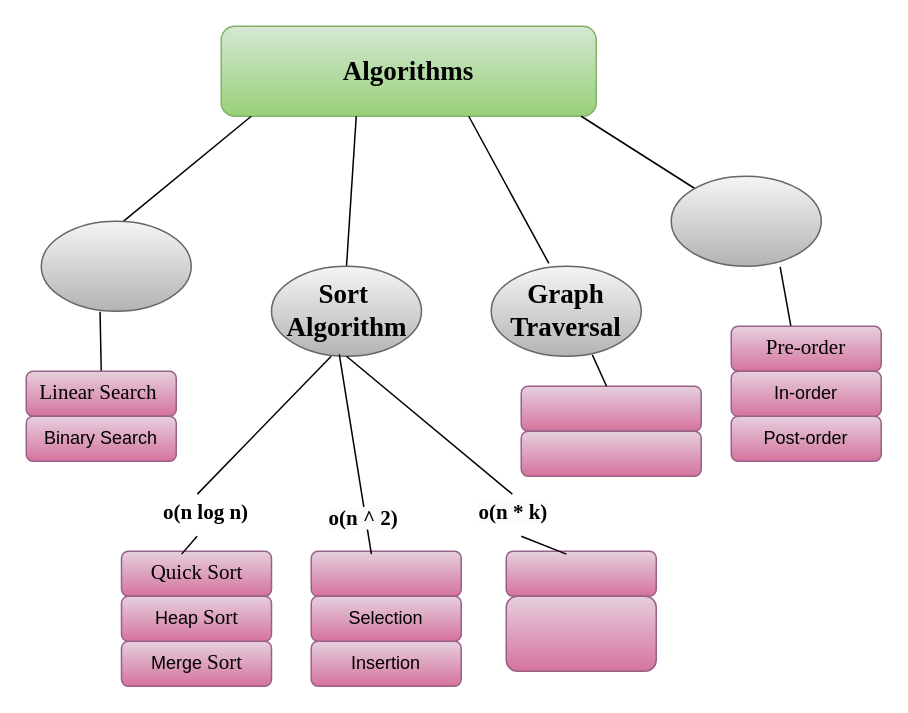
The diagram is 908 pixels wide and 713 high, and some of its shapes have lost their labels. Each missing label, with the centre of its shape:
"Breadth-first Search" goes at point (610, 453).
"Bubble Sort" goes at point (385, 573).
"Depth-first Search" goes at point (610, 408).
"n numbers consisting of K digits" goes at point (580, 633).
"Radix" goes at point (580, 573).
"Search Algorithm" goes at point (115, 265).
"Tree Traversal" goes at point (745, 220).
